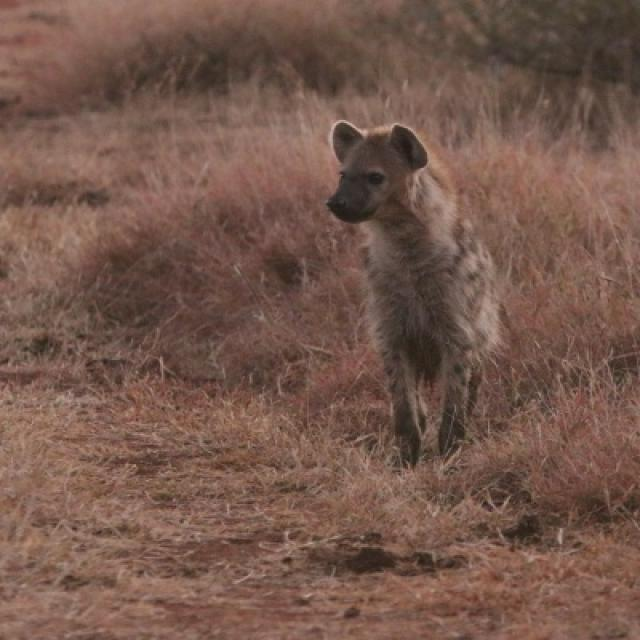hyena: (325, 123, 485, 469)
